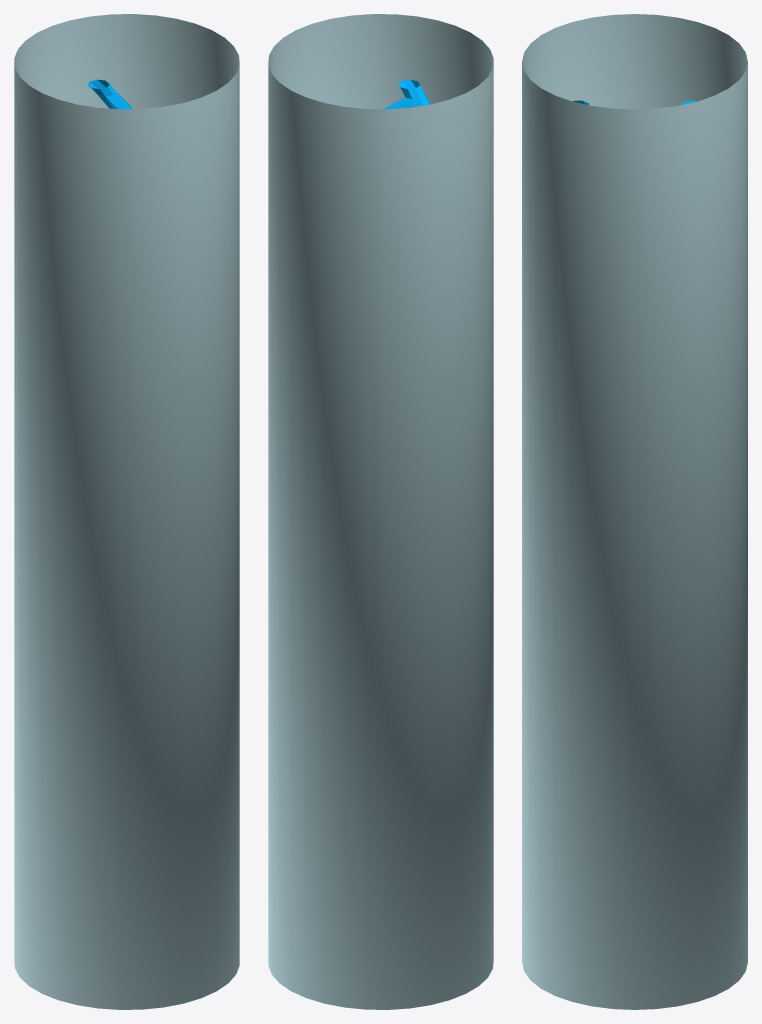
The model's file is DNA-glas.gltf.
3 renders of one model, left to right at view 1: azimuth 30°, elevation 25°; view 2: azimuth 150°, elevation 25°; view 3: azimuth 270°, elevation 25°, orthographic.
Parts seen in each view (by area): view 1: Cylinder, Plane; view 2: Cylinder, Plane; view 3: Cylinder.
Part boxes in pixels (<box>): Cylinder: <box>14,14,239,1009</box>; Plane: <box>87,79,132,109</box>; Cylinder: <box>268,14,493,1009</box>; Plane: <box>383,79,430,109</box>; Cylinder: <box>522,14,747,1009</box>.
Size of the model in its own units: 2.6 by 11.45 by 2.6.
